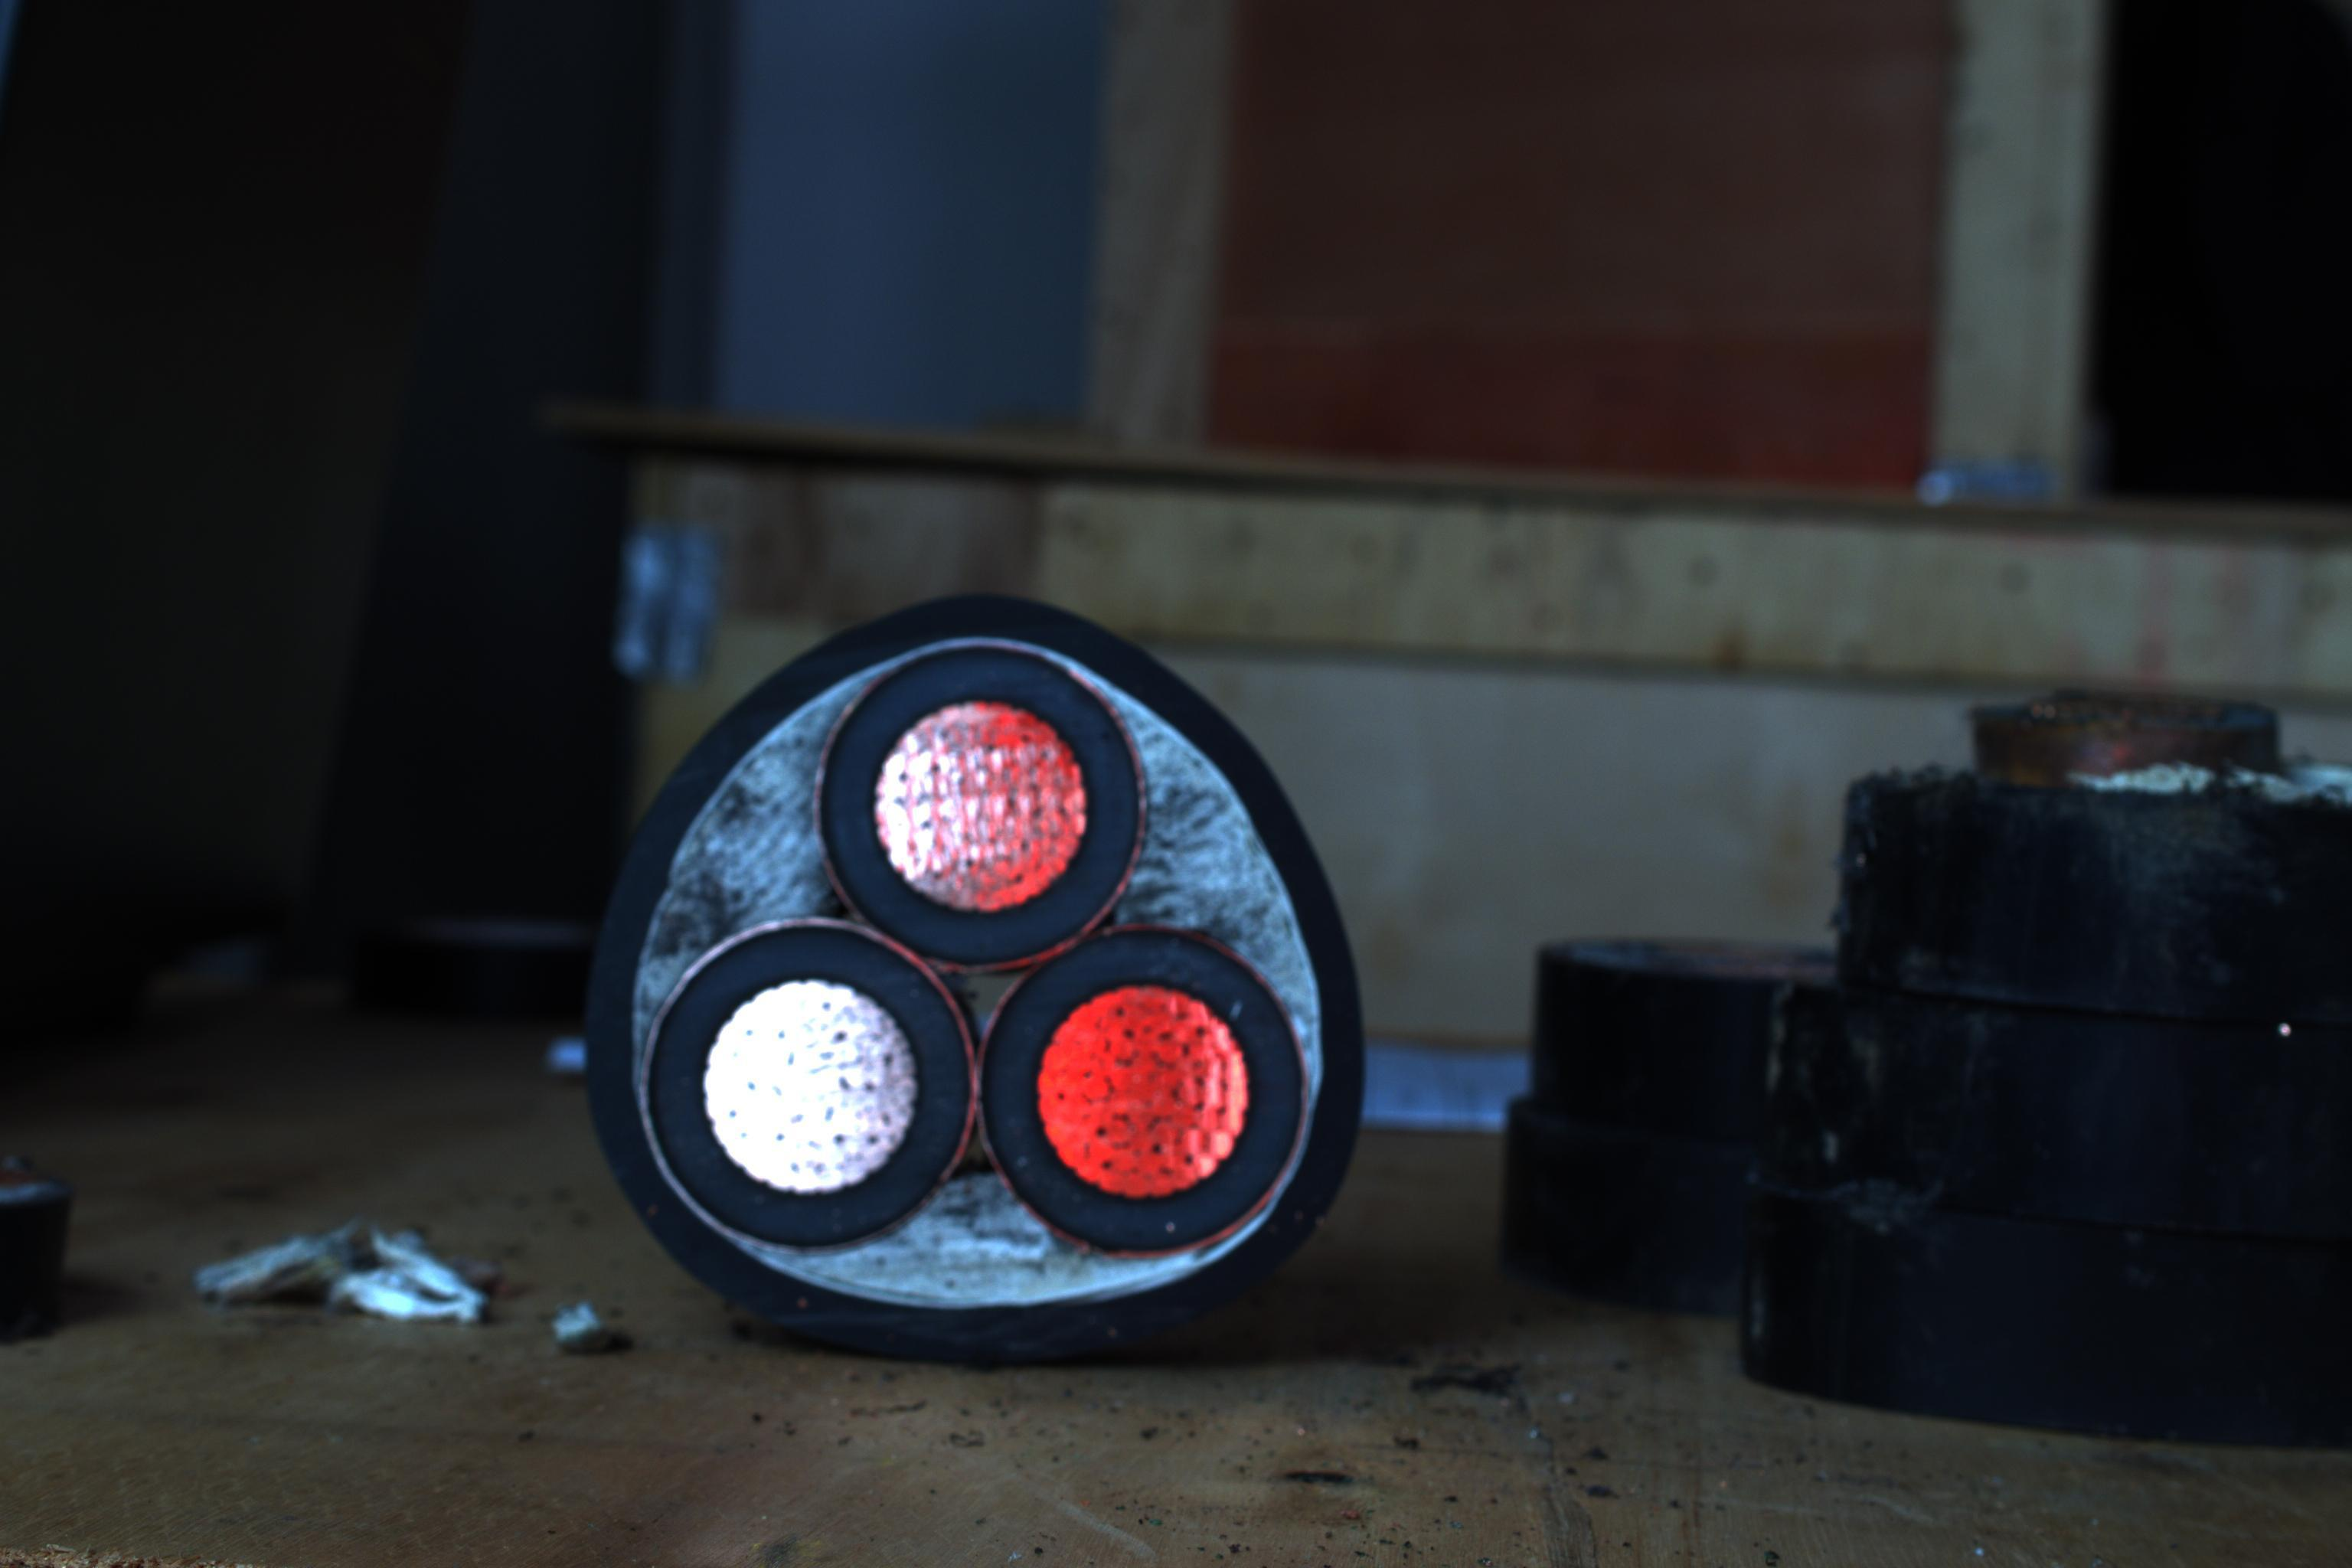ZA_YJV_8.7_10kV_3x400: (572, 611, 1337, 1344)
